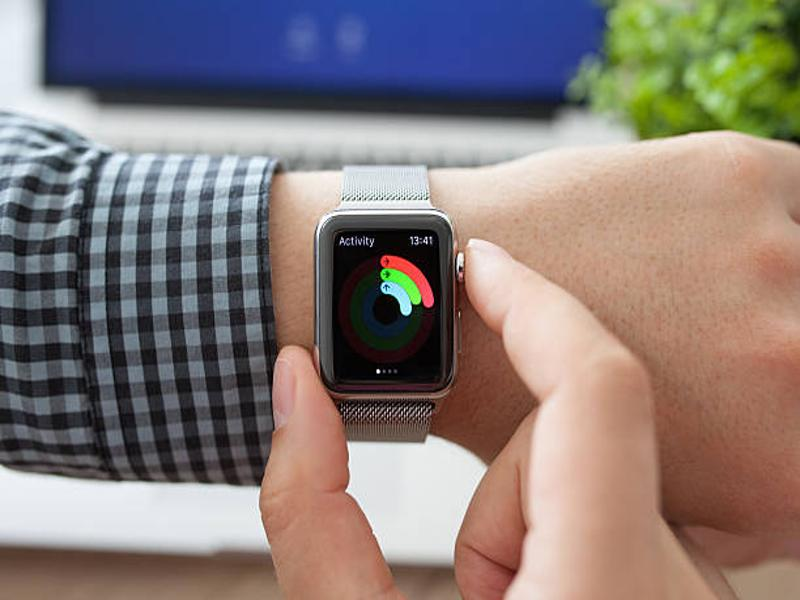watch: (309, 166, 469, 448)
